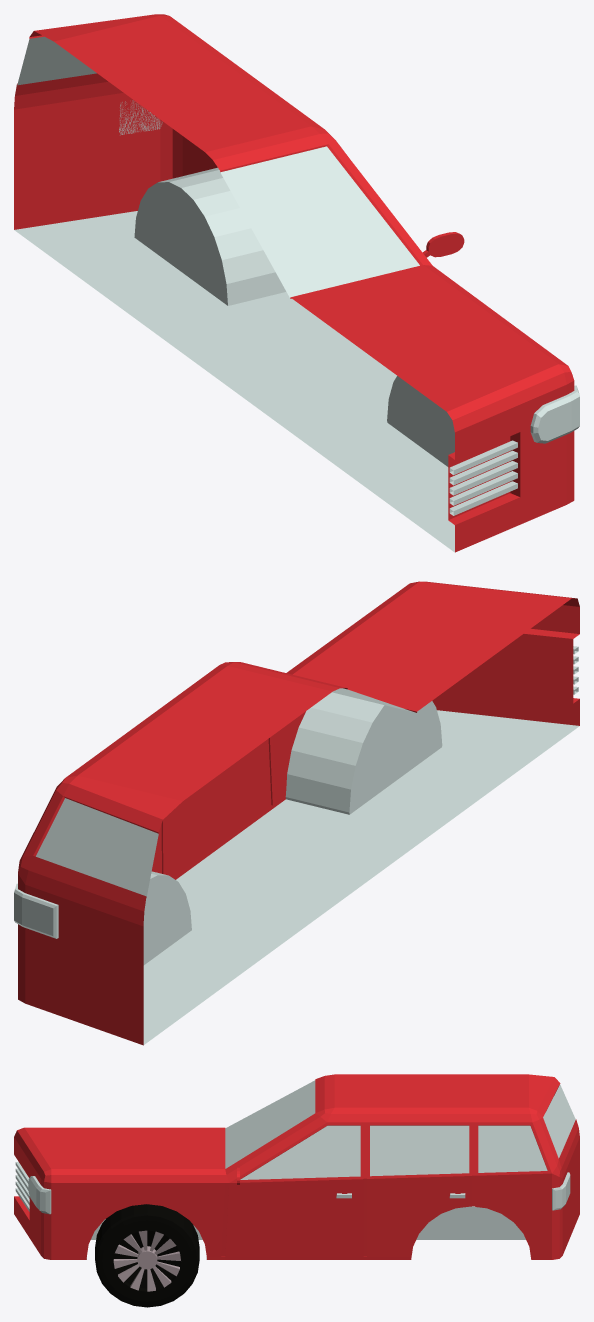
Rendered from car_tired.glb.
3 renders of one model, top to bottom at view 1: azimuth 30°, elevation 25°; view 2: azimuth 150°, elevation 25°; view 3: azimuth 270°, elevation 25°, orthographic. The views are drawn at different scales.
Parts seen in each view (by area): view 1: Cube; view 2: Cube; view 3: Cube, Cylinder.
Part boxes in pixels (box(x1,y1,x2,y2)): Cube: box(14, 14, 579, 552); Cube: box(14, 581, 579, 1045); Cube: box(14, 1074, 579, 1259); Cylinder: box(95, 1204, 199, 1307).
Bounding box in the file's own units: 8.78 × 13.4 × 36.64.
